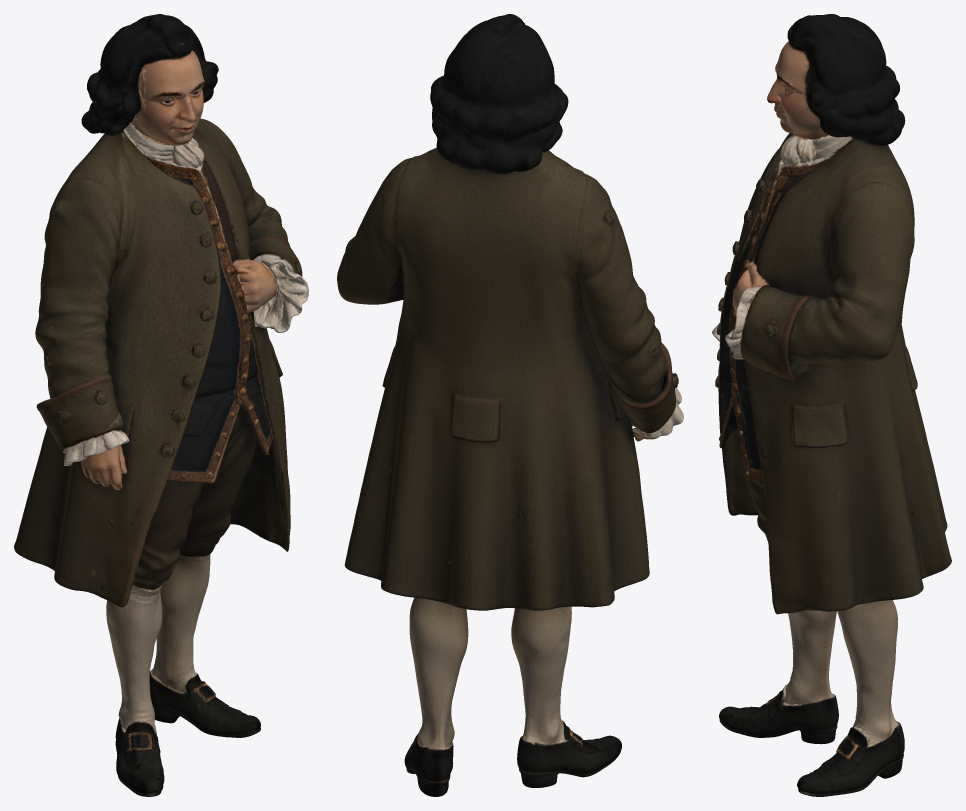
File: mason-opt.fbx
3 renders of one model, left to right at view 1: azimuth 30°, elevation 25°; view 2: azimuth 150°, elevation 25°; view 3: azimuth 270°, elevation 25°, orthographic. The views are drawn at different scales.
Parts seen in each view (by area): view 1: tripo_node_9b4c2b5b; view 2: tripo_node_9b4c2b5b; view 3: tripo_node_9b4c2b5b.
Boxes of the visible parts, x1,y1,x2,y2 form: tripo_node_9b4c2b5b: [14, 14, 308, 796]; tripo_node_9b4c2b5b: [337, 14, 683, 796]; tripo_node_9b4c2b5b: [712, 14, 951, 796].
Bounding box in the file's own units: 38.71 × 97.84 × 28.76.
1 material, 1 textured.
